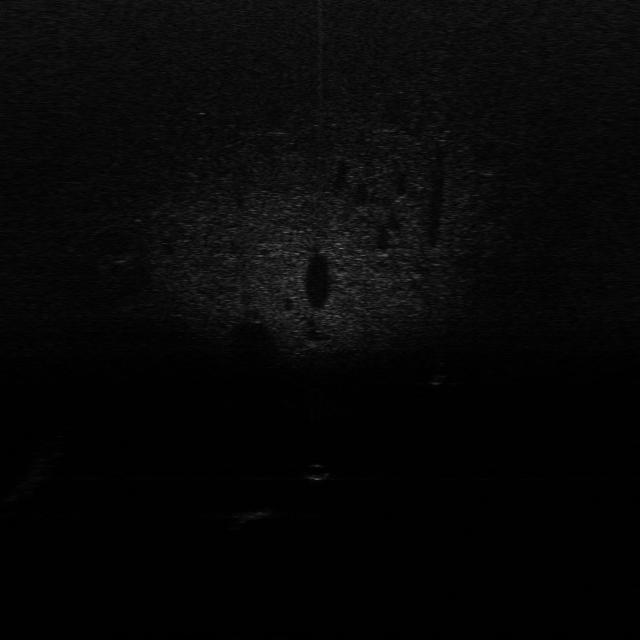ball: (303, 462, 331, 483)
square cage: (226, 505, 278, 521)
tyre: (426, 357, 450, 386)
